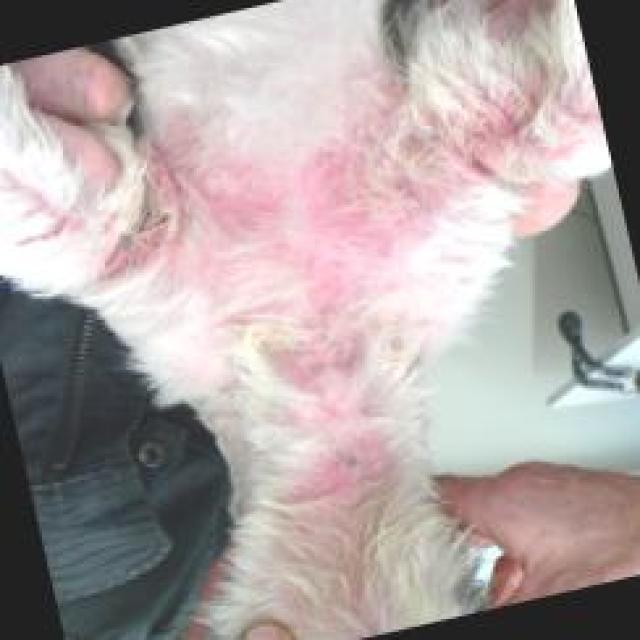allergic dermatitis: (222, 217, 390, 516), (152, 98, 433, 254), (413, 46, 592, 156), (8, 162, 140, 269)
